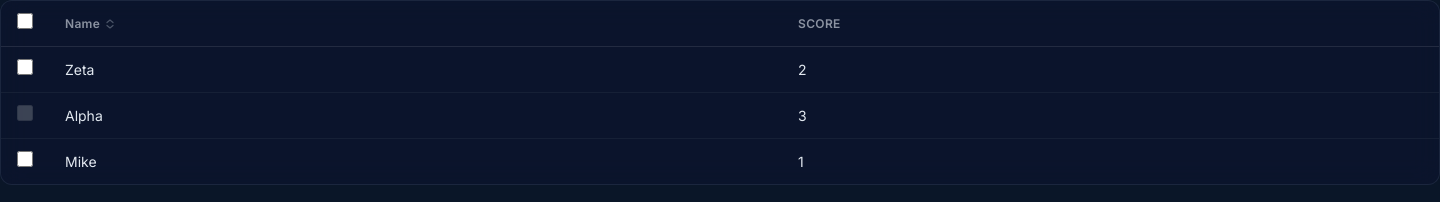
it: Table › selects rows and skips rows excluded by isRowSelectable
The width and height of the screenshot is (1440, 202).
Click the checkbox named "Select all rows".
click(25, 21)  # box [17, 13, 33, 29]
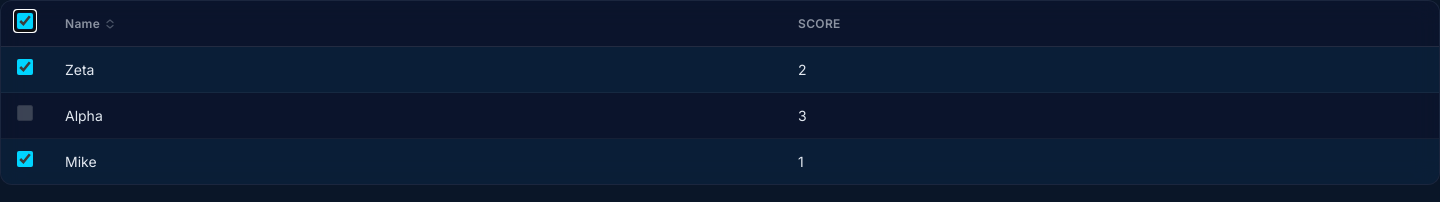
Expected: the checkbox named "Select row" next to "Alpha" is disabled, [17, 105, 33, 121]
Now the checkbox named "Select row" next to "Zeta" is checked, box [17, 59, 33, 75]
Now the checkbox named "Select row" next to "Mike" is checked, box [17, 151, 33, 167]
